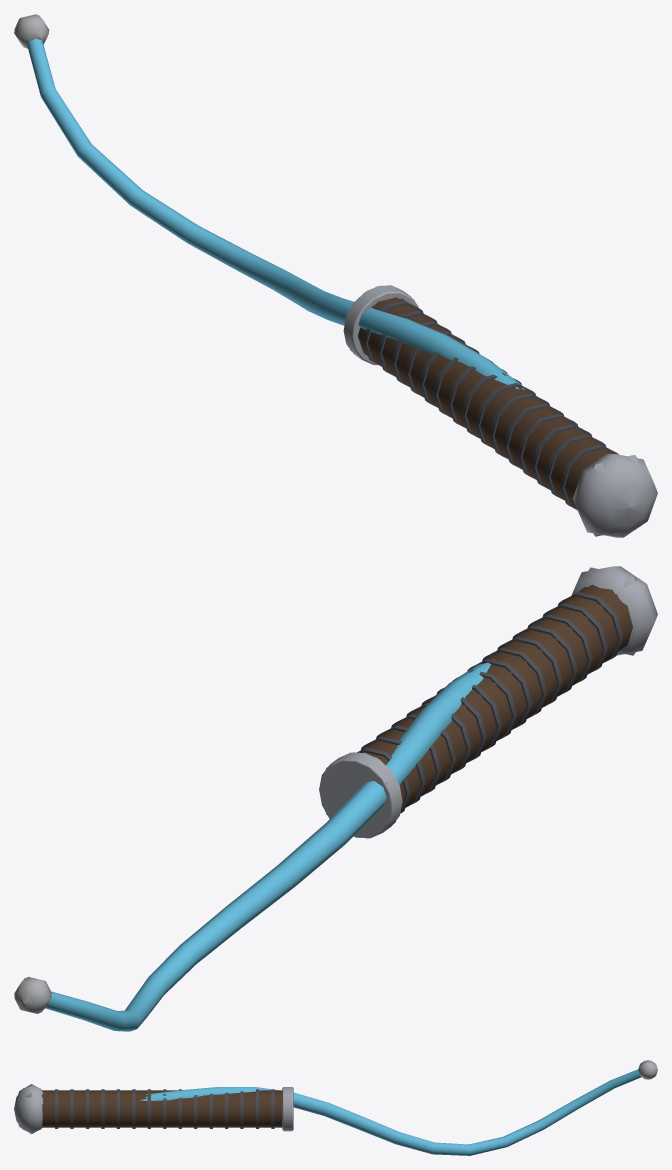
Rendered from whip.glb.
3 renders of one model, top to bottom at view 1: azimuth 30°, elevation 25°; view 2: azimuth 150°, elevation 25°; view 3: azimuth 270°, elevation 25°, orthographic. The views are drawn at different scales.
Parts seen in each view (by area): view 1: L0, L1; view 2: L0, L1; view 3: L0, L1.
Boxes of the visible parts, box(x1,y1,x2,y2) form: L0: box(14, 14, 657, 537); L1: box(14, 15, 654, 536); L0: box(14, 566, 657, 1031); L1: box(14, 567, 636, 1012); L0: box(14, 1060, 657, 1155); L1: box(18, 1060, 655, 1134).
Bounding box in the file's own units: 0.0498 × 0.0806 × 0.5831.
